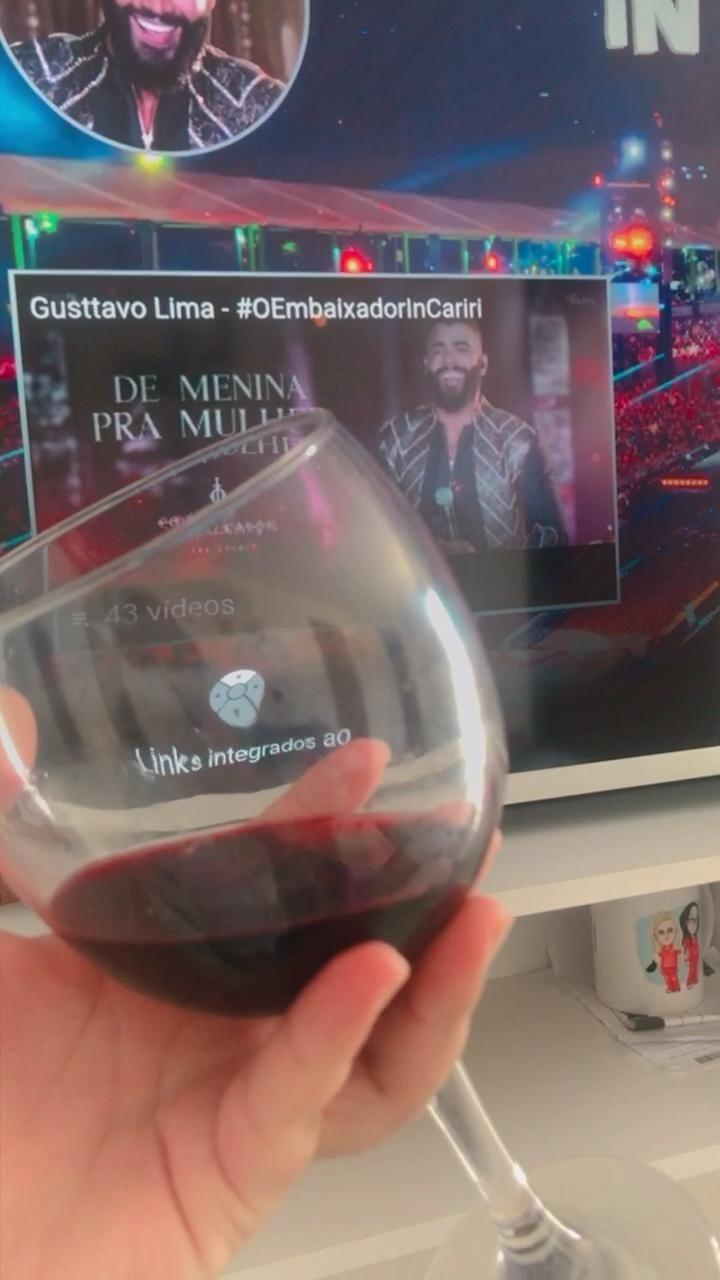glass-wine: (1, 407, 720, 1280)
